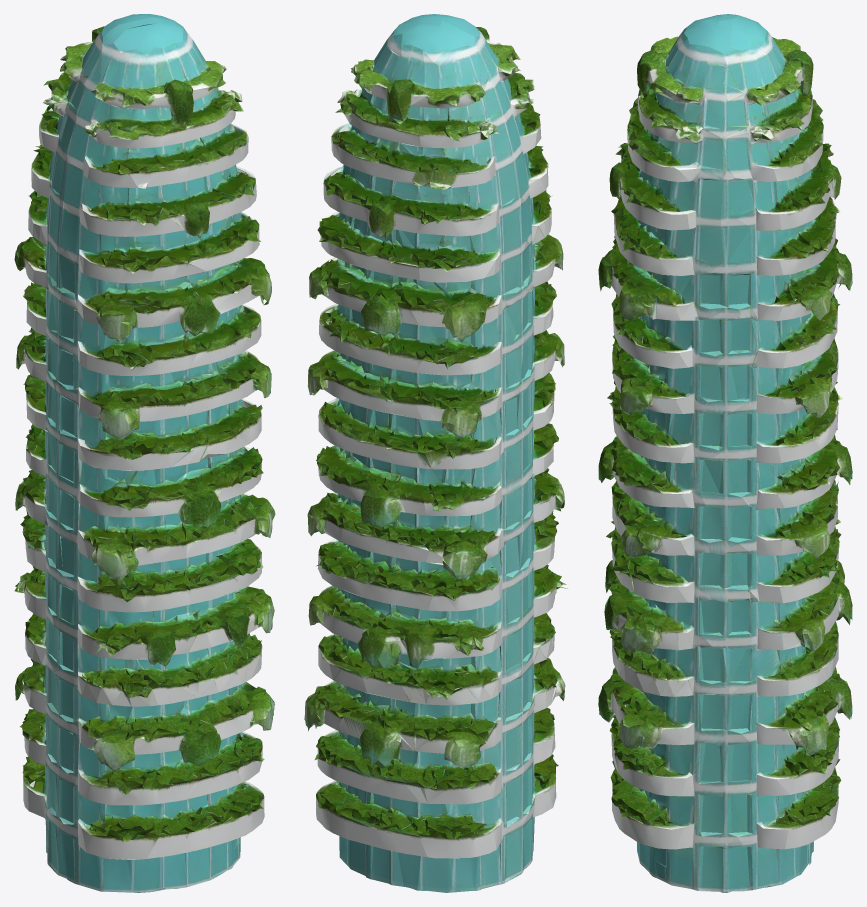
Rendered from tower2.glb.
The picture shows the model from 3 angles, left to right: view 1: azimuth 30°, elevation 25°; view 2: azimuth 150°, elevation 25°; view 3: azimuth 270°, elevation 25°; orthographic projection.
Bounding box in the file's own units: 0.4344 × 1.9 × 0.5277.
1 material, 1 textured.
